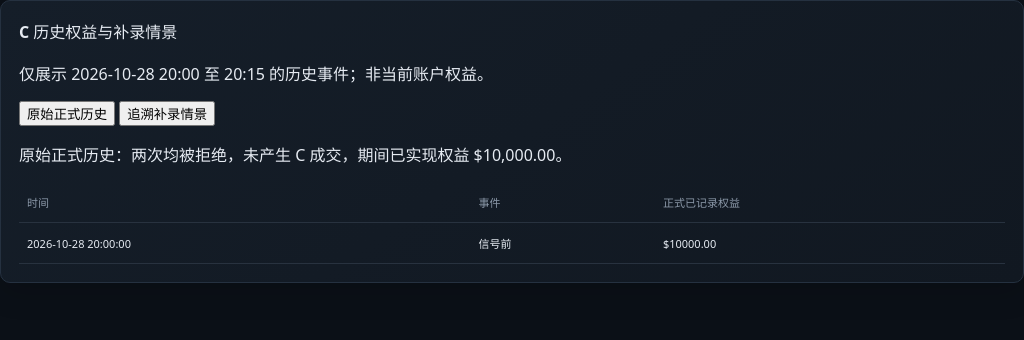
Scenario: keeps formal and counterfactual historical statistics distinct
This screenshot has width=1024, height=340.
Expected: the button "原始正式历史" is shown, x1=19 y1=101 x2=115 y2=126
Click the button "追溯补录情景".
click(167, 114)  # box x1=119 y1=101 x2=215 y2=126
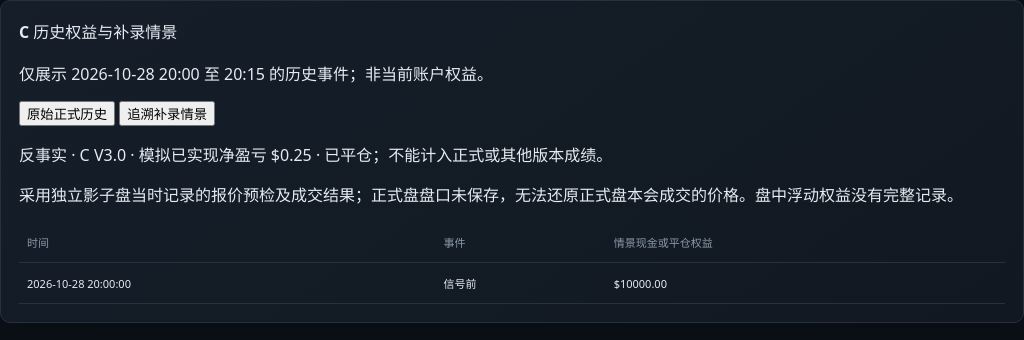
Expected: the text "反事实 · C V3.0 · 模拟已实现净盈亏 $0.25 · 已平仓；不能计入正式或其他版本成绩。" is shown, x1=19 y1=144 x2=612 y2=166
